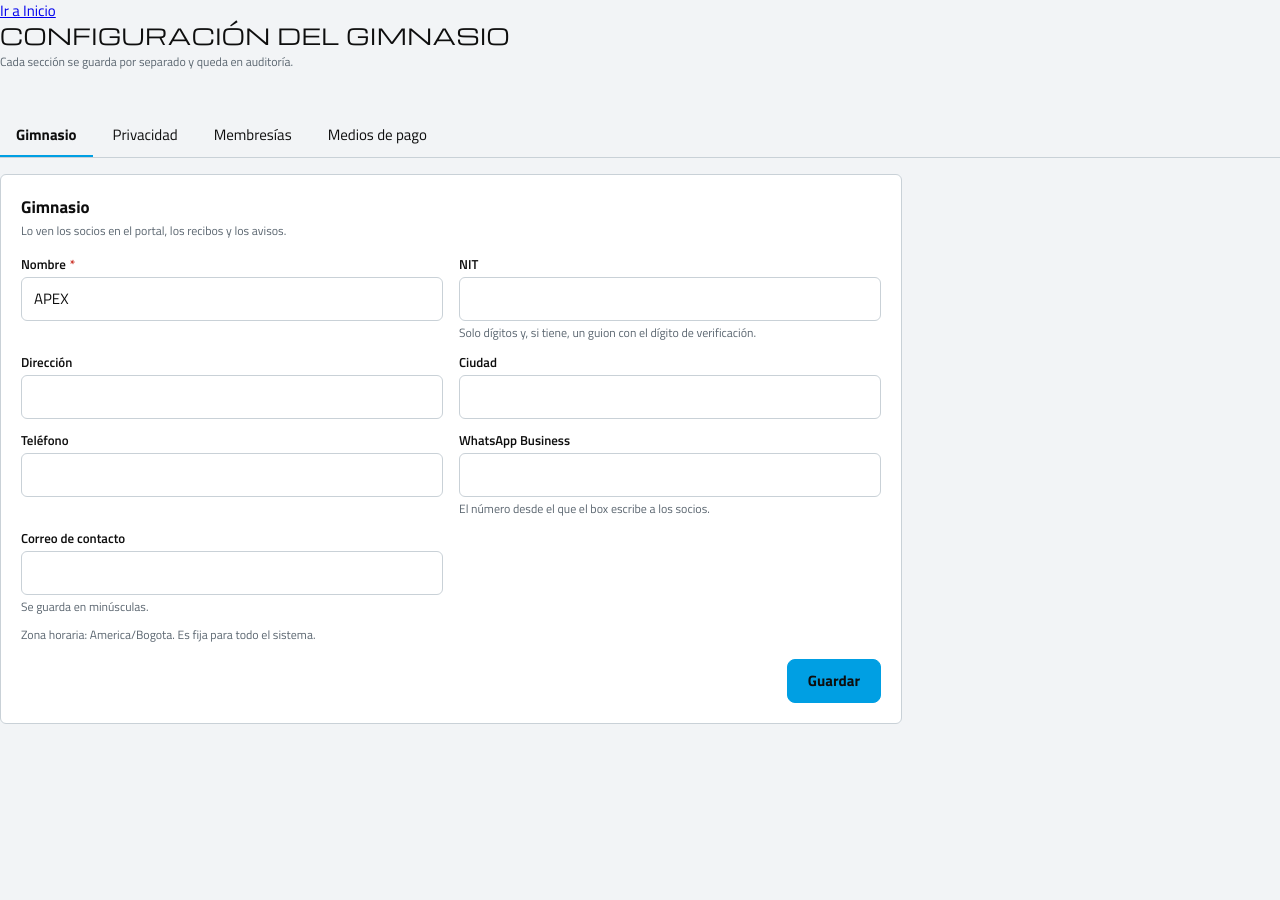
Test: ConfigPage › con cambios sin guardar, cambiar de pestaña pide confirmación; Volver conserva lo escrito
Type " Norte" into the field labelled "Nombre*" at (232,299), box x1=21 y1=277 x2=443 y2=321
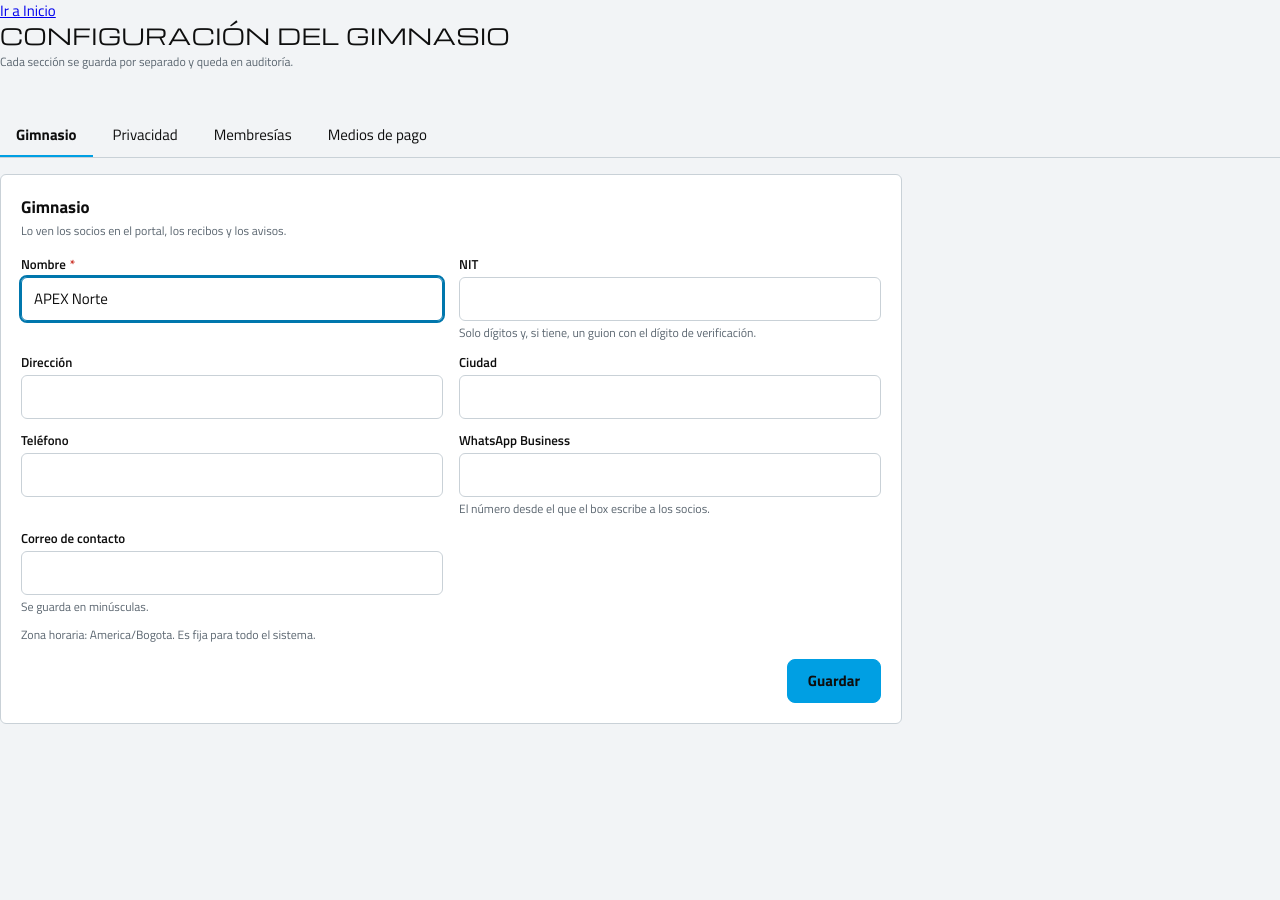
Click the tab "Privacidad" at (145,136), box x1=96 y1=114 x2=194 y2=158
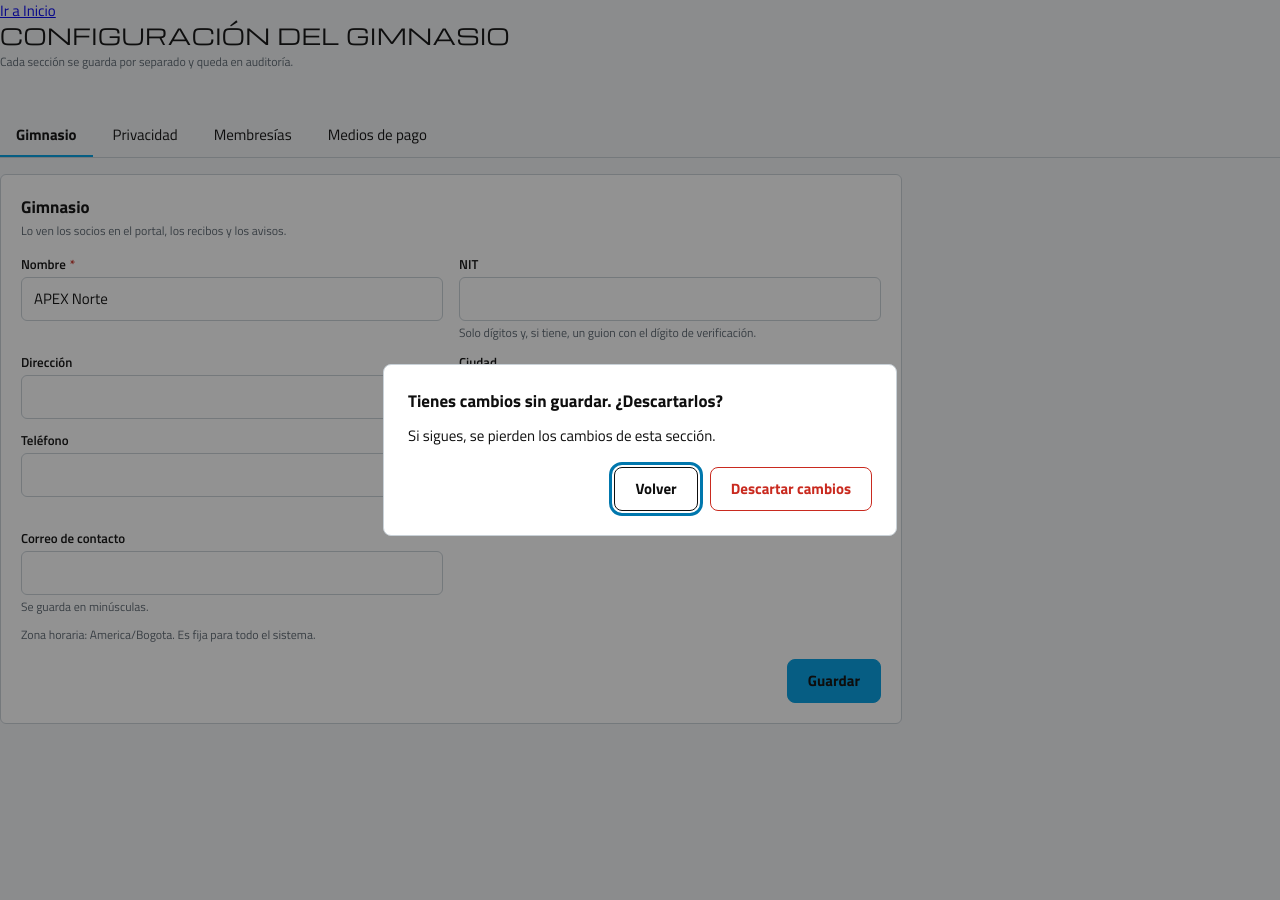
Check: the dialog "Tienes cambios sin guardar. ¿Descartarlos?" shows "Si sigues, se pierden los cambios de esta sección.", box x1=408 y1=424 x2=715 y2=447
Click the button "Volver" at (656,489), box x1=614 y1=467 x2=698 y2=511
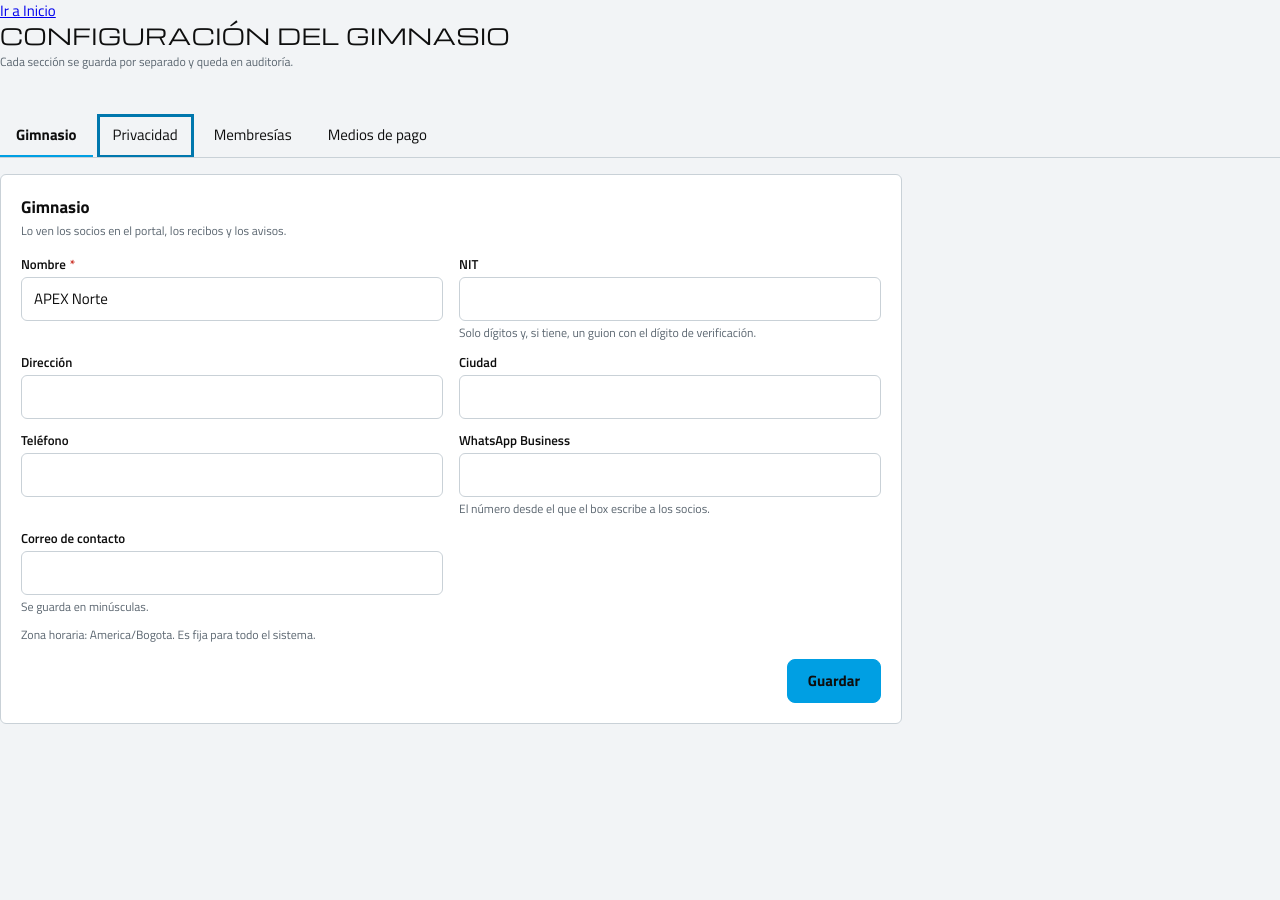
Check: the field labelled "Nombre*" holds "APEX Norte", box x1=21 y1=277 x2=443 y2=321
Check: the dialog is gone
